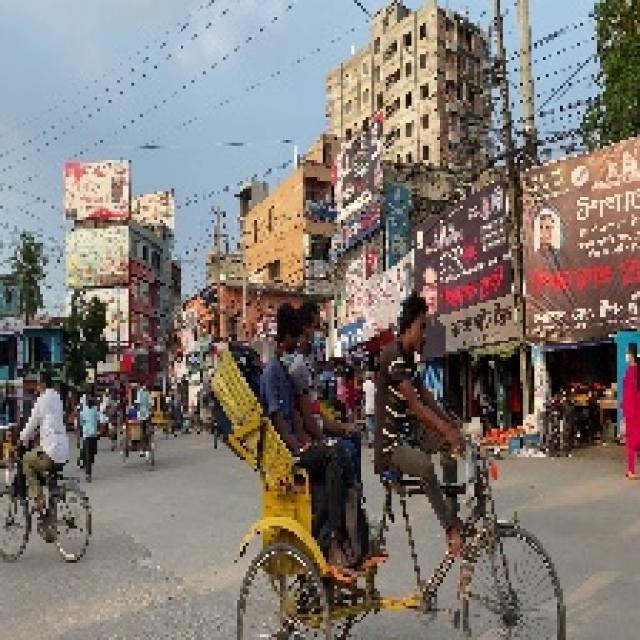rickshaw: (216, 326, 571, 620), (120, 375, 159, 465), (96, 389, 119, 448), (194, 387, 213, 434), (150, 389, 168, 433), (64, 395, 82, 430)
